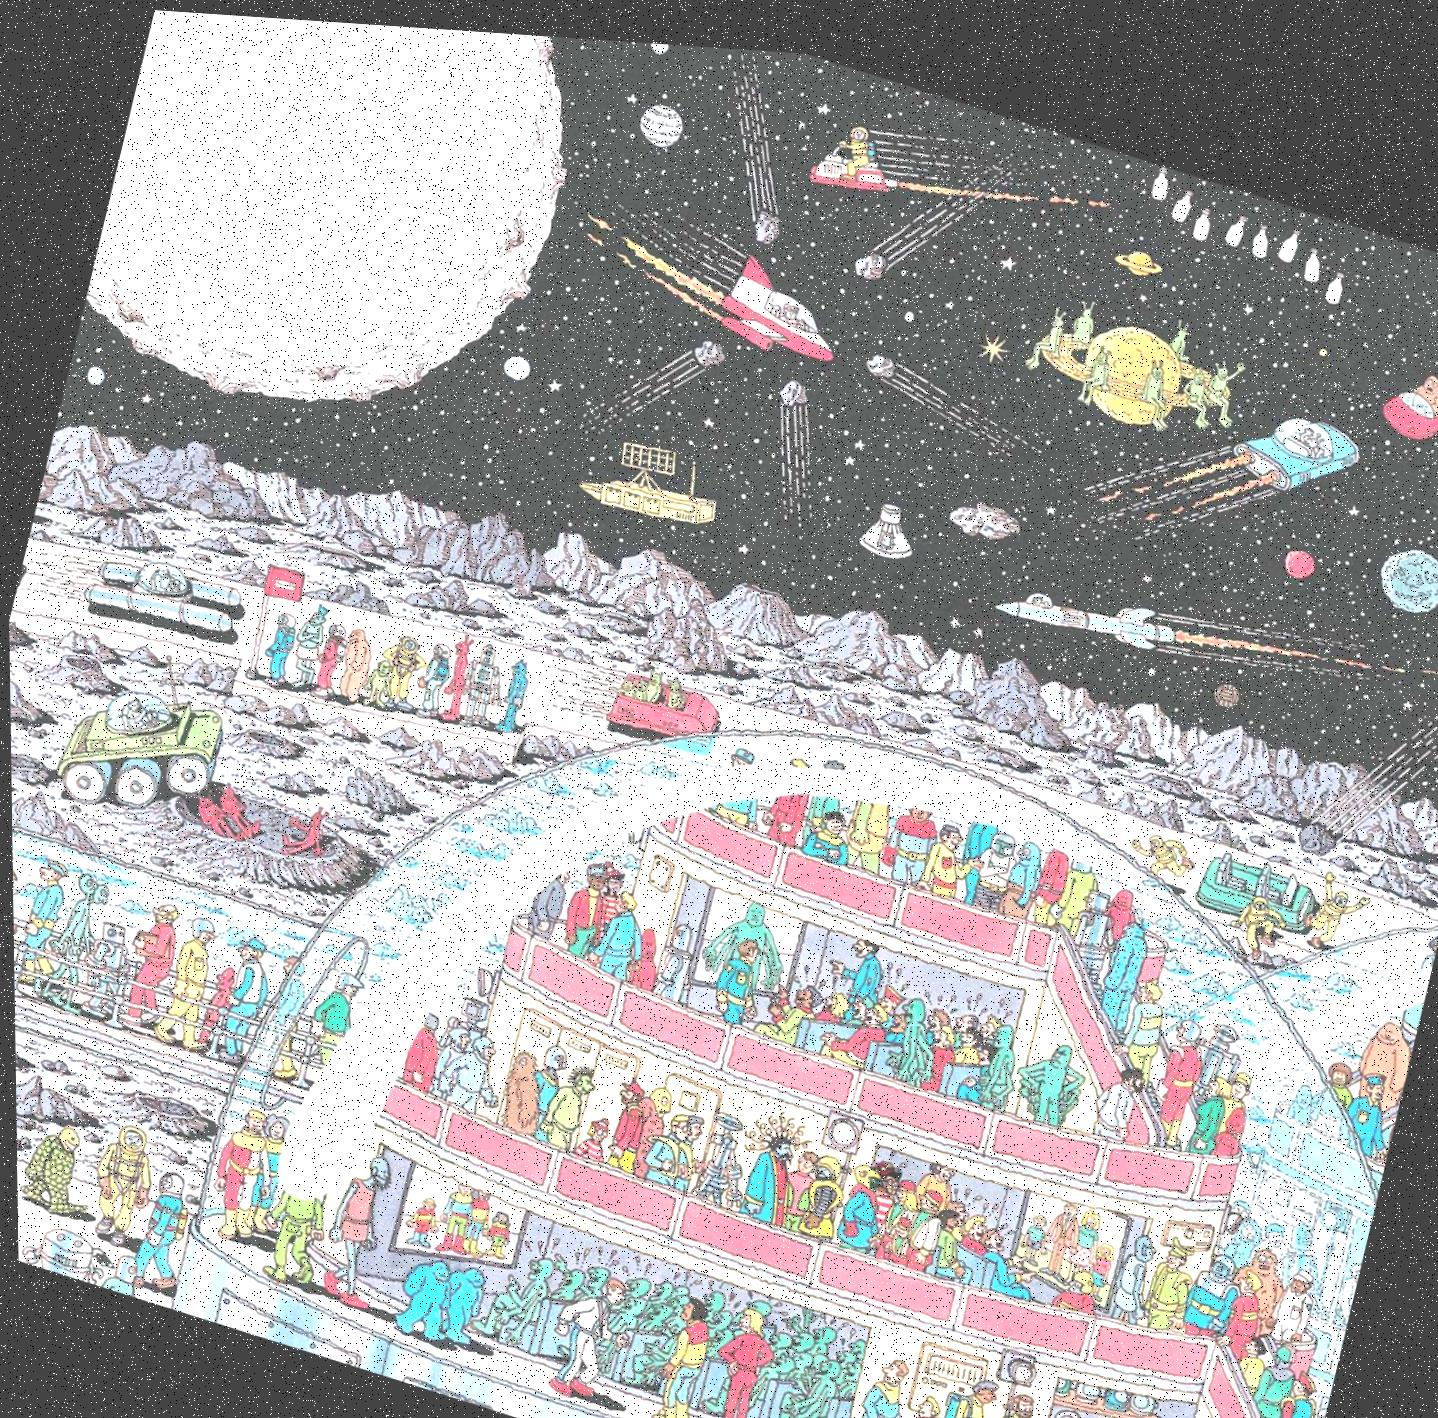waldo: (865, 1148, 900, 1184)
